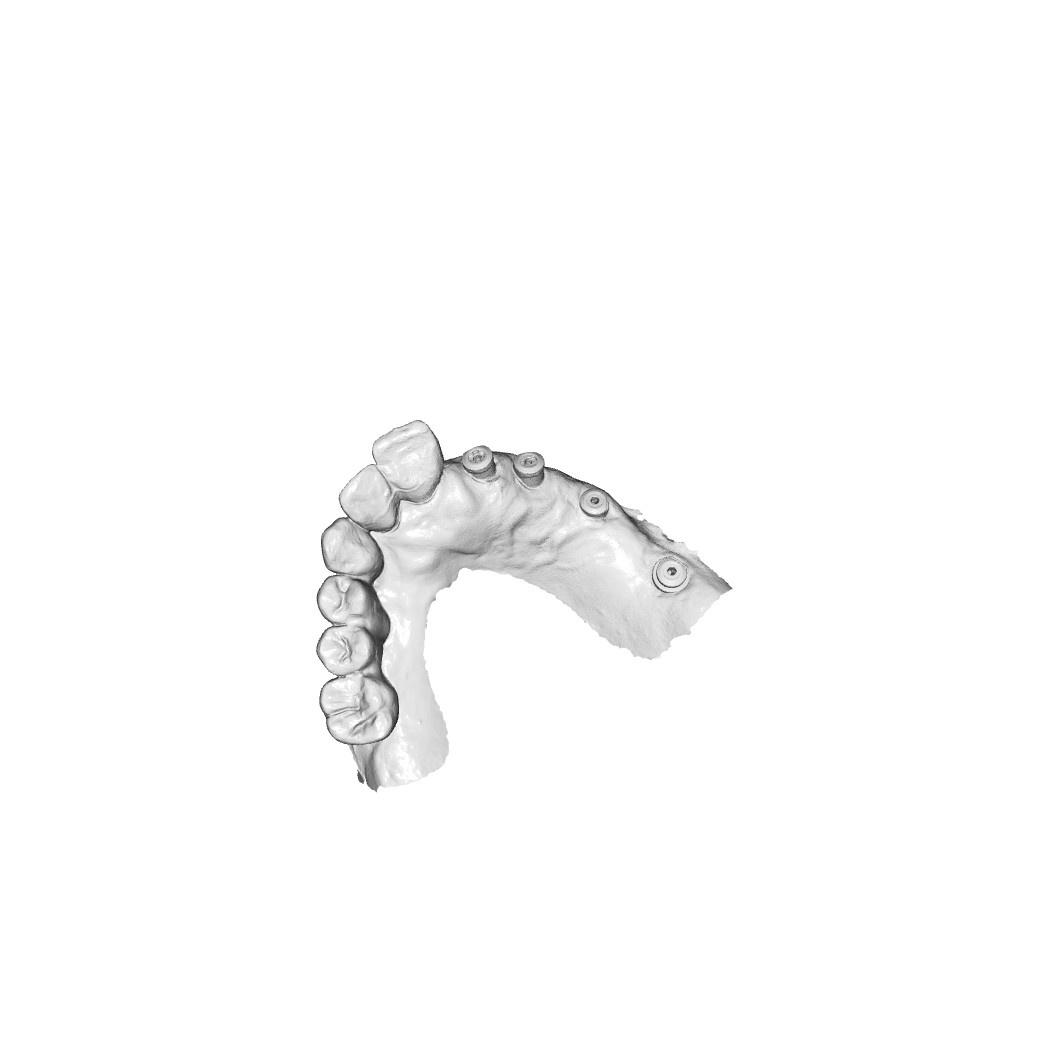canine: (324, 527, 387, 578)
implant: (651, 555, 689, 593), (579, 486, 612, 524)
implant_minus: (514, 452, 546, 490), (461, 443, 494, 477)
incisor: (374, 422, 441, 496), (338, 466, 396, 528)
molar: (322, 677, 394, 741)
premolar: (316, 574, 376, 629), (316, 629, 375, 675)
